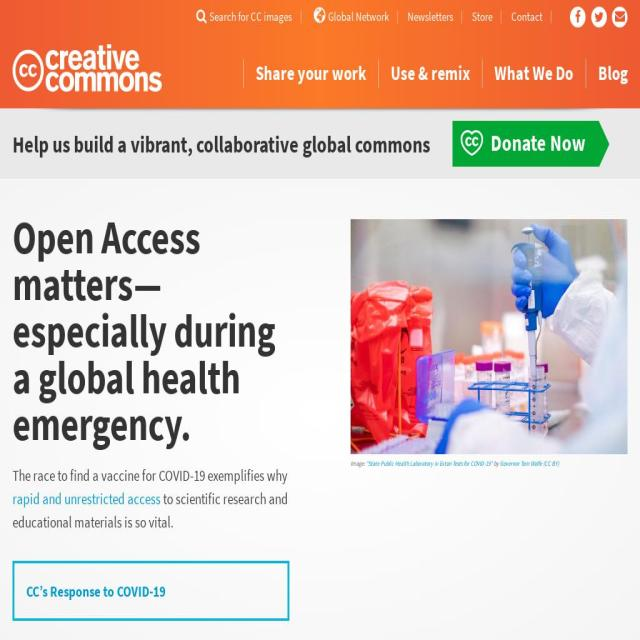button: (350, 219, 628, 455), (452, 121, 598, 167), (243, 59, 378, 89), (184, 0, 301, 32), (378, 59, 483, 89), (482, 59, 586, 89), (301, 0, 398, 32), (397, 0, 462, 32), (585, 59, 640, 89), (501, 0, 551, 32), (462, 0, 502, 32), (570, 6, 586, 28), (591, 6, 607, 28), (612, 6, 627, 28)
heading: (12, 213, 628, 640), (12, 213, 290, 448)
image: (351, 219, 628, 455), (12, 44, 162, 92)
link: (12, 488, 160, 509), (26, 580, 166, 602), (366, 458, 493, 468), (500, 458, 542, 468), (544, 458, 558, 468)
text: (12, 126, 430, 162), (13, 488, 288, 532), (12, 465, 288, 486), (491, 128, 550, 158), (550, 128, 586, 158), (351, 458, 367, 468), (492, 458, 500, 468), (542, 458, 545, 468)
